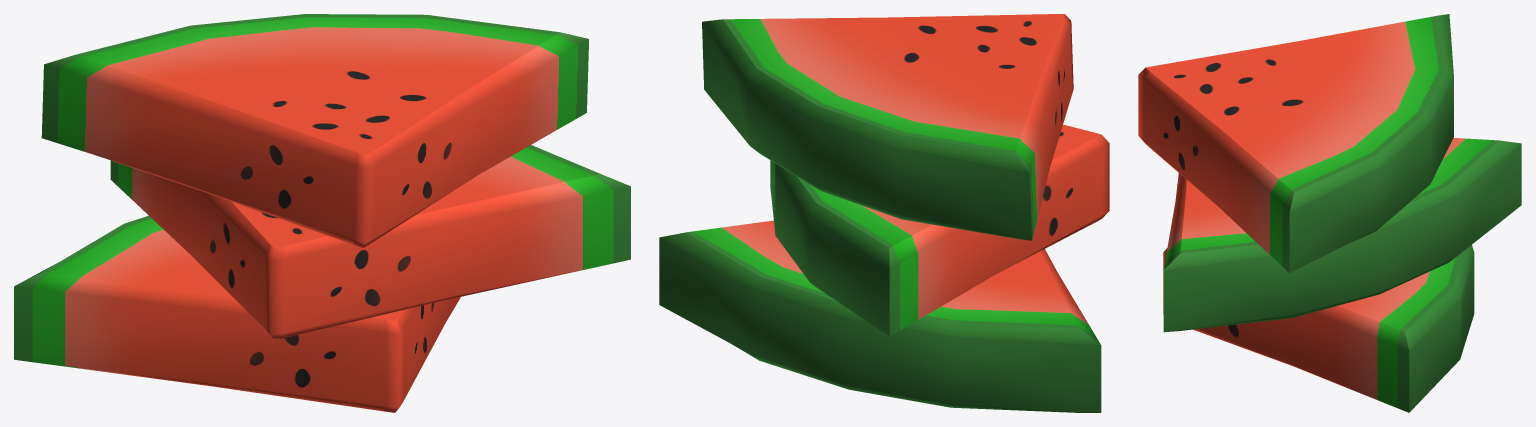
File: Pasteque_Multiple.fbx
The picture shows the model from 3 angles, left to right: view 1: azimuth 30°, elevation 25°; view 2: azimuth 150°, elevation 25°; view 3: azimuth 270°, elevation 25°; orthographic projection. The views are drawn at different scales.
Visible parts, largest first — view 1: pCube28; view 2: pCube28; view 3: pCube28.
Part boxes in pixels (x1,y1,x2,y2): pCube28: (14,14,630,412); pCube28: (659,14,1109,412); pCube28: (1138,14,1521,412).
Bounding box in the file's own units: 7.04 × 3.77 × 5.49.
